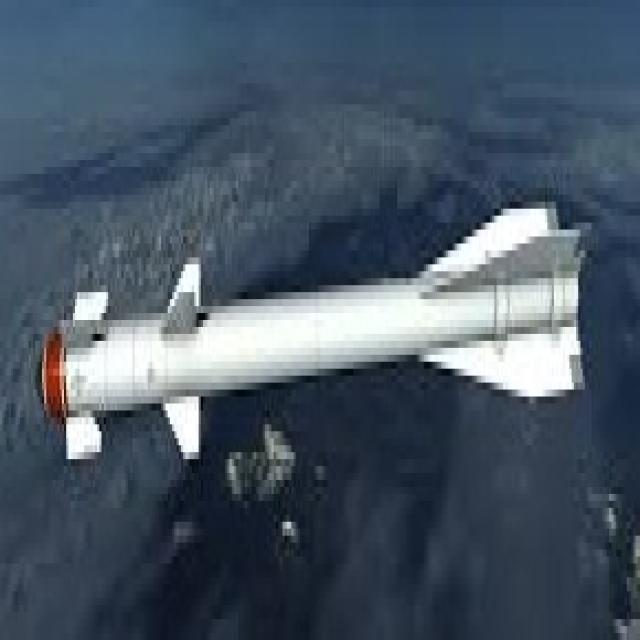missile: (40, 204, 578, 444)
